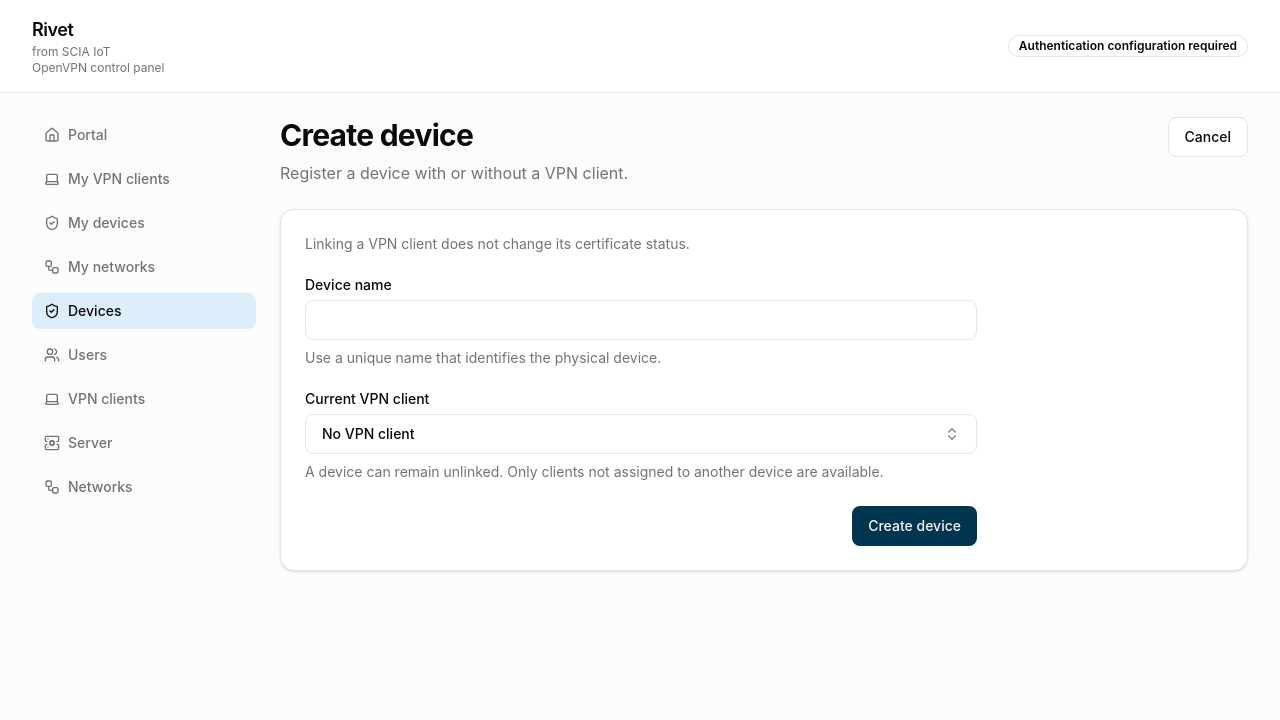
it: device administration pages › creates an unlinked device with a searchable picker
Expected: the heading "Create device" is shown, [280,117,473,153]
Click the dropdown named "Current VPN client" at point(368, 434), box [305,414,977,454]
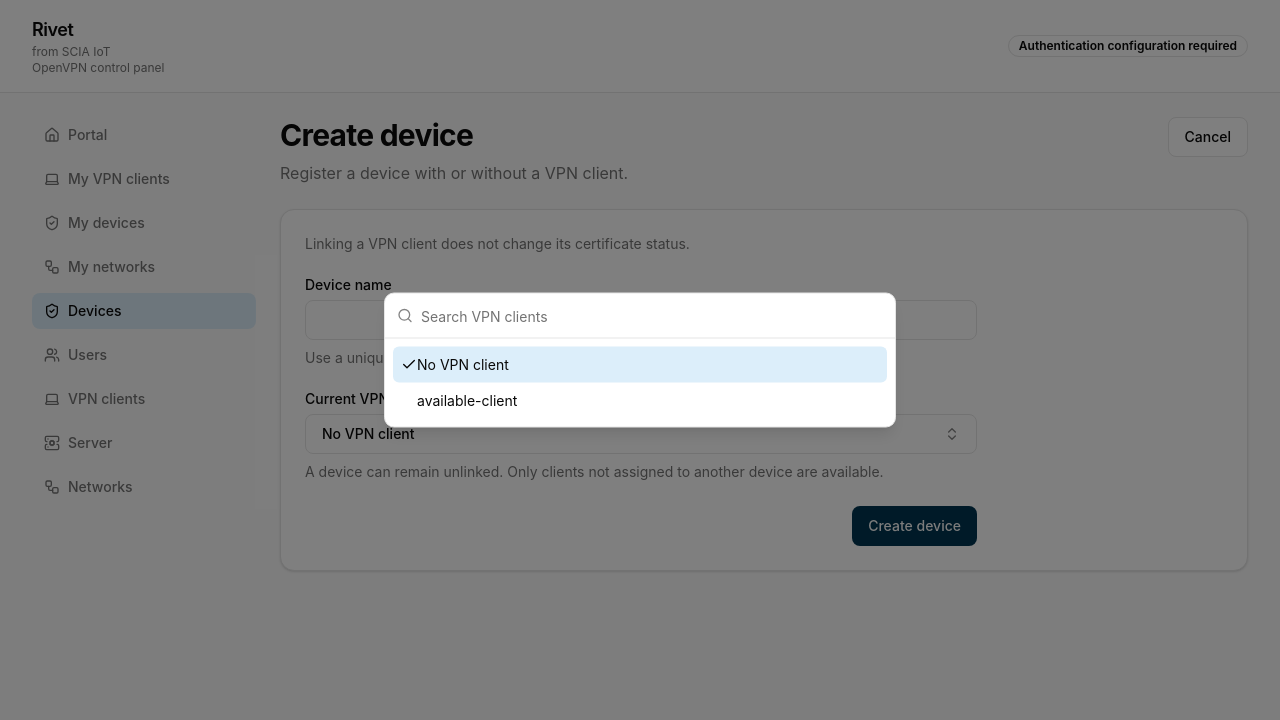
Type "available" into the dropdown labelled "Search VPN clients" at point(652, 316), box [421,294,883,338]
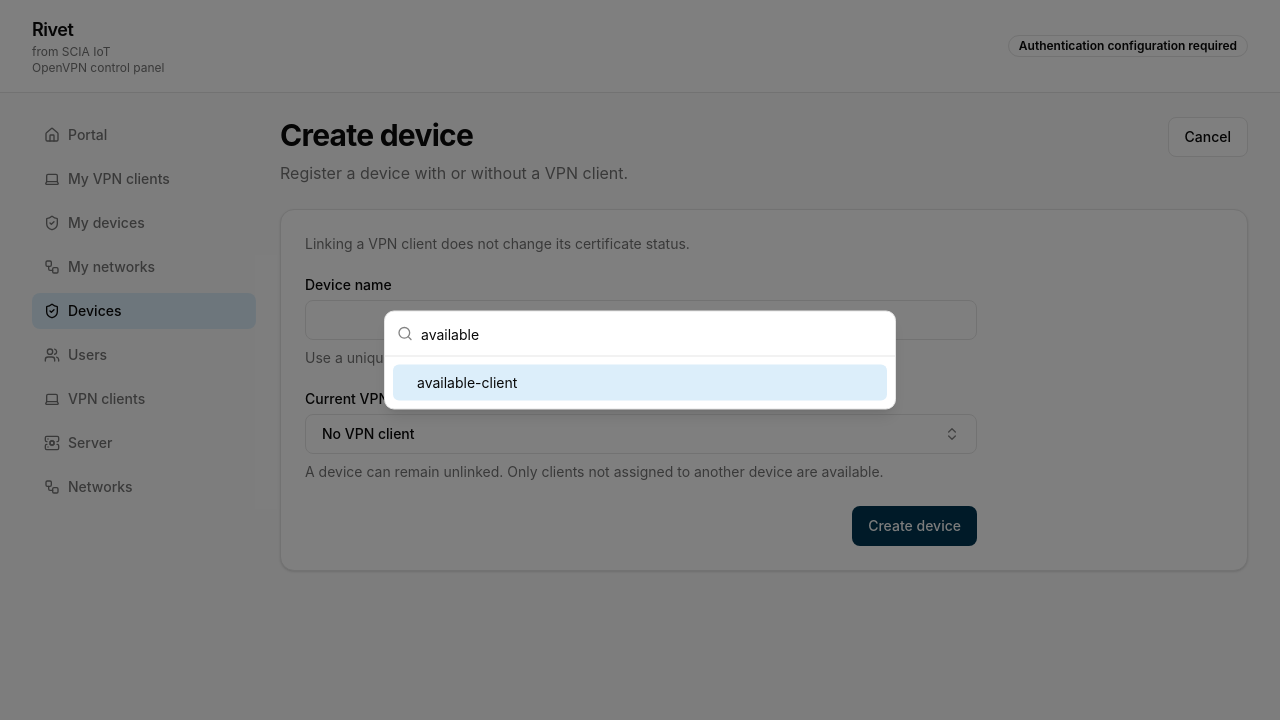
Expected: the option "available-client" is shown, [393,364,887,400]
Press Escape
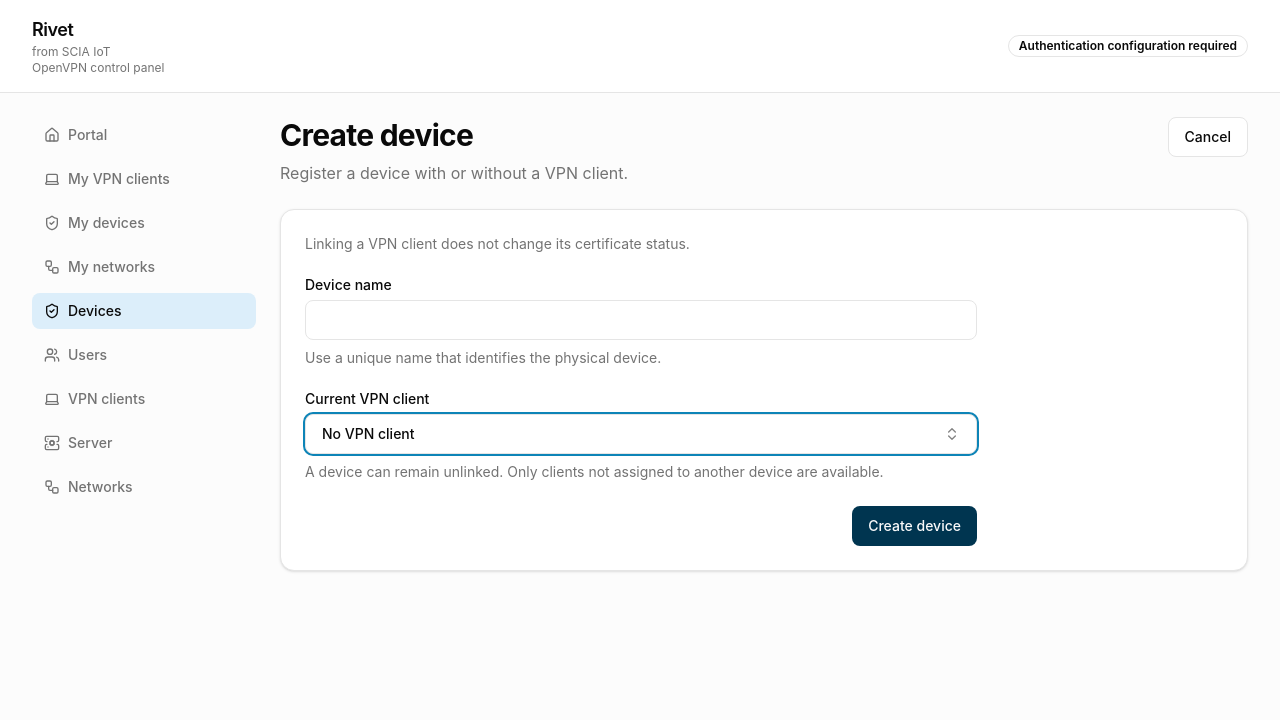
Type "New sensor" into the field labelled "Device name" at point(641, 320), box [305,300,977,340]
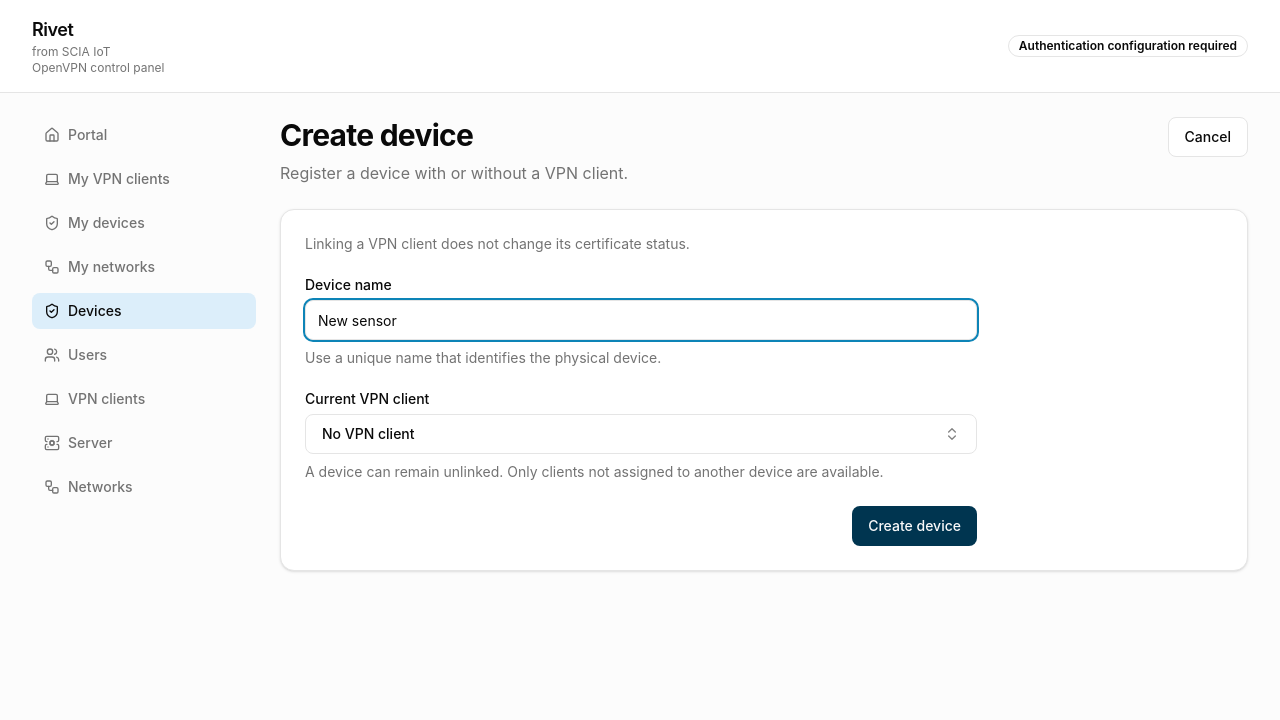
Click the button "Create device" at point(915, 526), box [852,506,977,546]
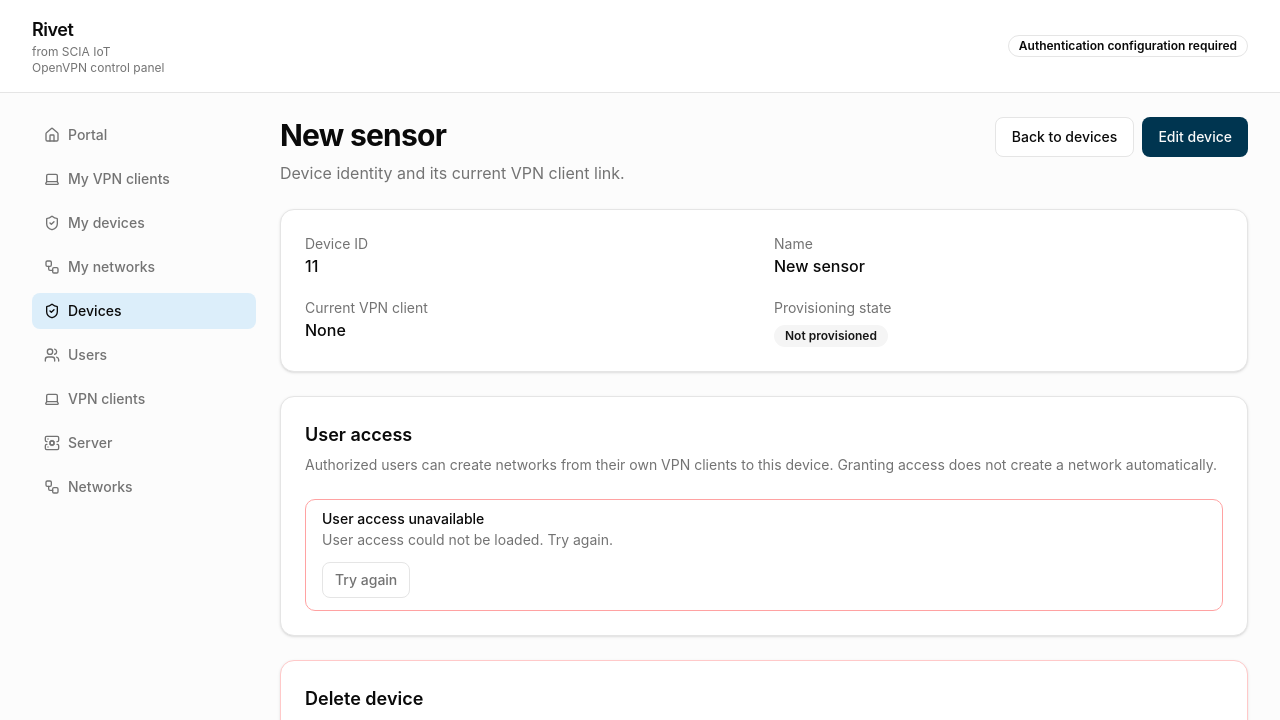
Expected: the heading "New sensor" is shown, [280,117,446,153]
Expected: the text "Not provisioned" is shown, [774,325,888,347]
